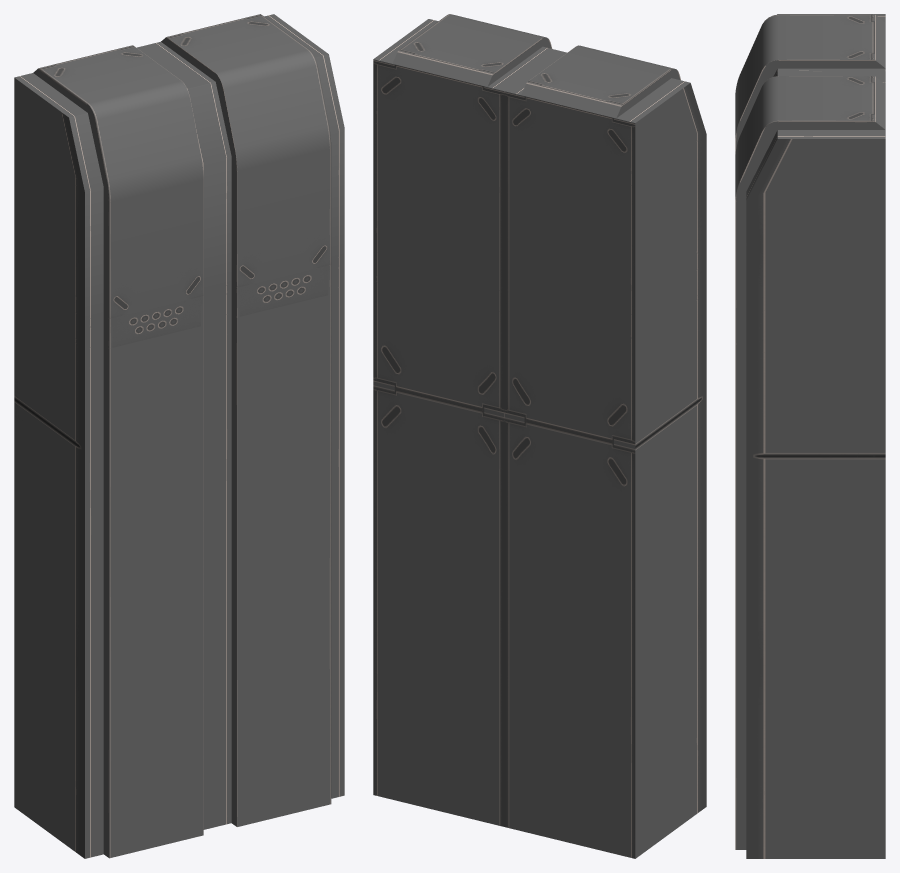
File: Prop_Locker.gltf
The picture shows the model from 3 angles, left to right: view 1: azimuth 30°, elevation 25°; view 2: azimuth 150°, elevation 25°; view 3: azimuth 270°, elevation 25°; orthographic projection. The views are drawn at different scales.
Parts seen in each view (by area): view 1: Prop_Locker; view 2: Prop_Locker; view 3: Prop_Locker.
Part boxes in pixels (x1=…): Prop_Locker: x1=14, y1=14, x2=344, y2=858; Prop_Locker: x1=373, y1=14, x2=706, y2=858; Prop_Locker: x1=735, y1=14, x2=885, y2=858.
Bounding box in the file's own units: 0.983 × 2.67 × 0.4994.
1 material, 1 textured.
